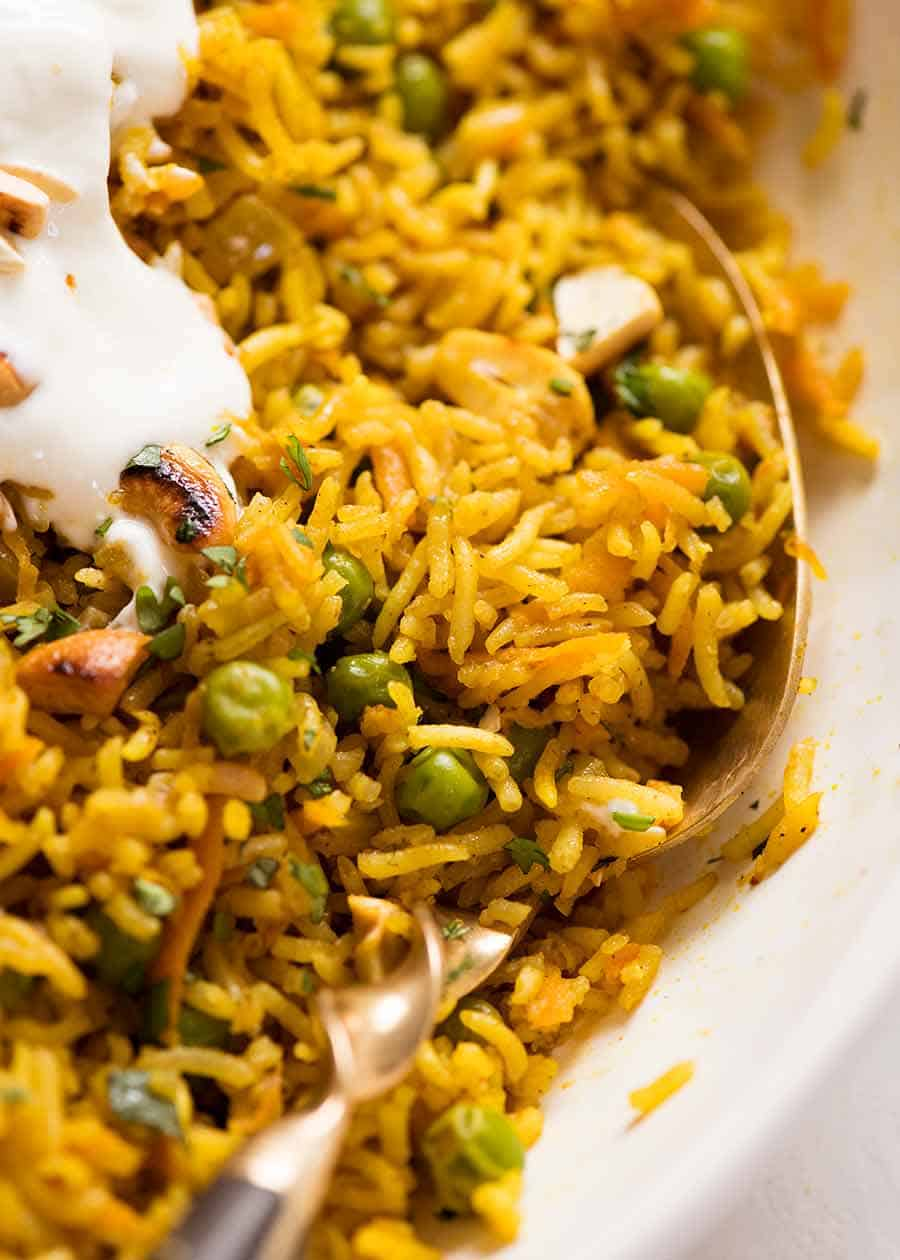rice: (213, 17, 817, 1238)
